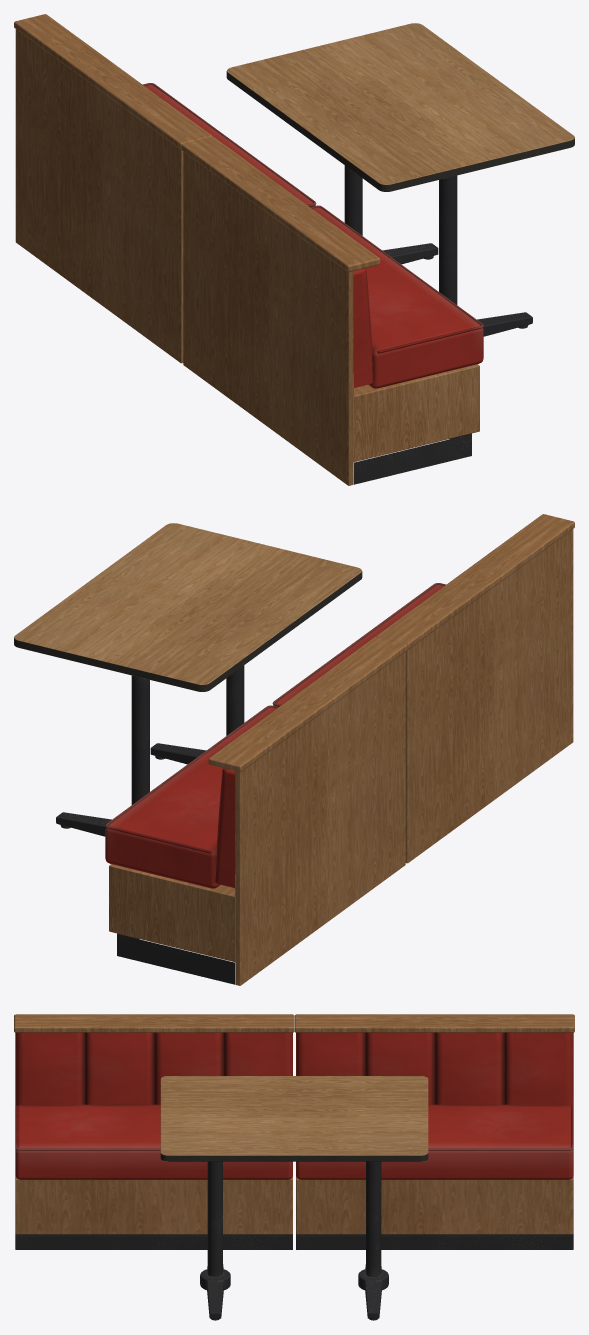
The model's file is PH_Booth.fbx.
The picture shows the model from 3 angles, top to bottom: view 1: azimuth 30°, elevation 25°; view 2: azimuth 150°, elevation 25°; view 3: azimuth 270°, elevation 25°; orthographic projection. The views are drawn at different scales.
Visible parts, largest first — view 1: PH_Booth; view 2: PH_Booth; view 3: PH_Booth.
Boxes of the visible parts, bbox=[...] form: PH_Booth: bbox=[14, 14, 574, 485]; PH_Booth: bbox=[14, 514, 574, 985]; PH_Booth: bbox=[14, 1014, 574, 1320].
Size of the model in its own units: 1.21 by 0.8 by 2.2.
